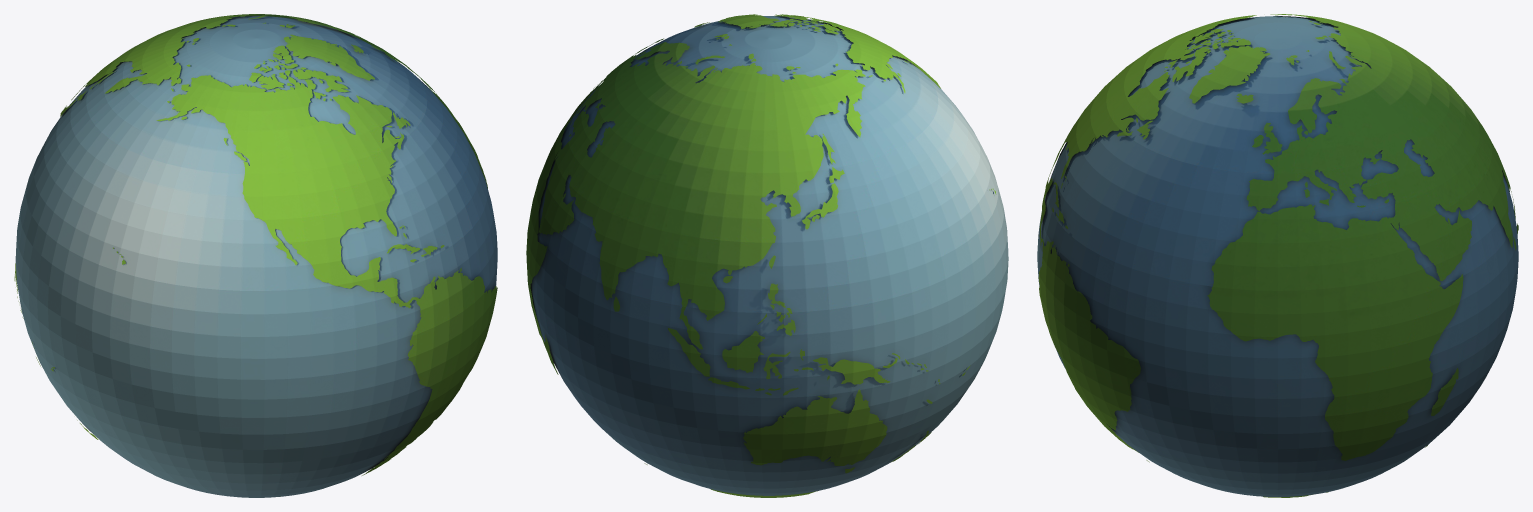
File: Earth.obj
The picture shows the model from 3 angles, left to right: view 1: azimuth 30°, elevation 25°; view 2: azimuth 150°, elevation 25°; view 3: azimuth 270°, elevation 25°; orthographic projection.
Parts seen in each view (by area): view 1: Object002, Object001; view 2: Object002, Object001; view 3: Object002, Object001.
Boxes of the visible parts, x1=… form: Object002: x1=14, y1=14, x2=497, y2=496; Object001: x1=15, y1=183, x2=497, y2=497; Object002: x1=526, y1=14, x2=998, y2=497; Object001: x1=530, y1=187, x2=1008, y2=495; Object002: x1=1038, y1=14, x2=1518, y2=497; Object001: x1=1037, y1=192, x2=1518, y2=496.
Size of the model in its own units: 13262 by 13305 by 13237.
Materials: 2 (2 with a texture image).
